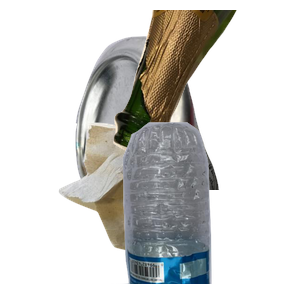glass: (111, 10, 300, 158)
metal: (73, 34, 285, 214)
plastic: (111, 120, 300, 300)
trash: (56, 120, 247, 300)
